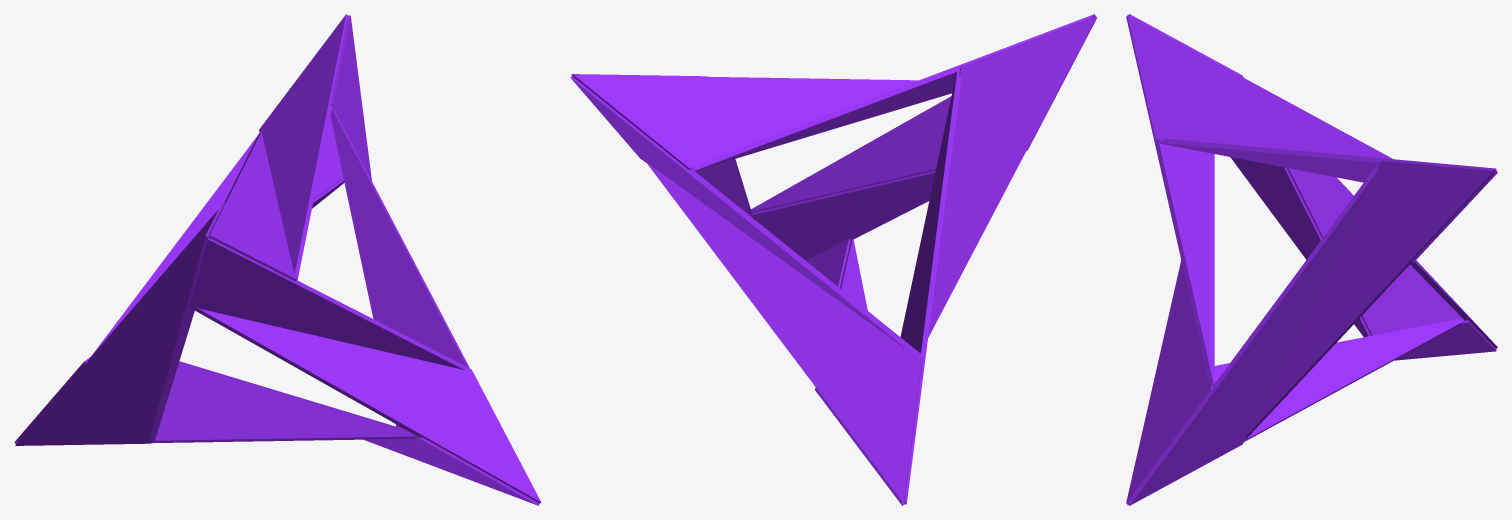
File: Tetrahedron1.glb
3 renders of one model, left to right at view 1: azimuth 30°, elevation 25°; view 2: azimuth 150°, elevation 25°; view 3: azimuth 270°, elevation 25°, orthographic. The views are drawn at different scales.
Visible parts, largest first — view 1: root; view 2: root; view 3: root.
Boxes of the visible parts, x1,y1,x2,y2 form: root: (14, 14, 541, 505); root: (570, 14, 1097, 505); root: (1126, 14, 1497, 505).
Bounding box in the file's own units: 0.7144 × 0.7144 × 0.7144.
